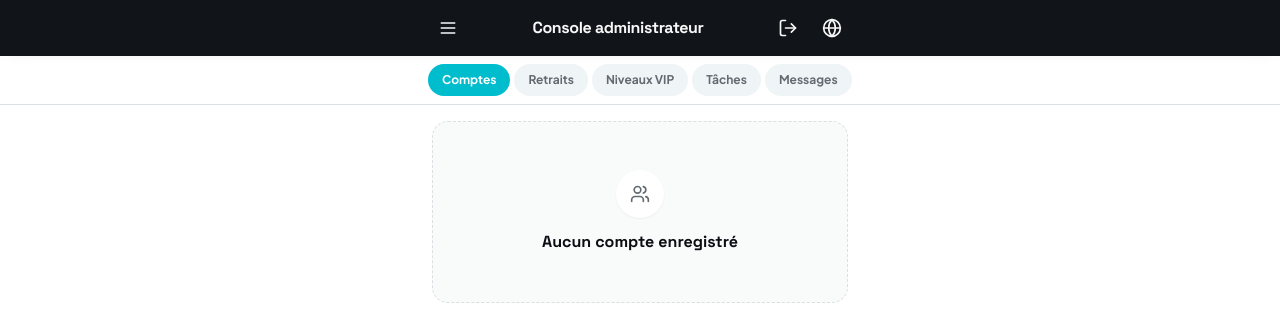
Test case: AdminPage service inbox › shows an empty state when there are no conversations
The image size is (1280, 320).
Click the button with test id "admin.tab.inbox".
click(808, 80)  # box [765,64,852,96]
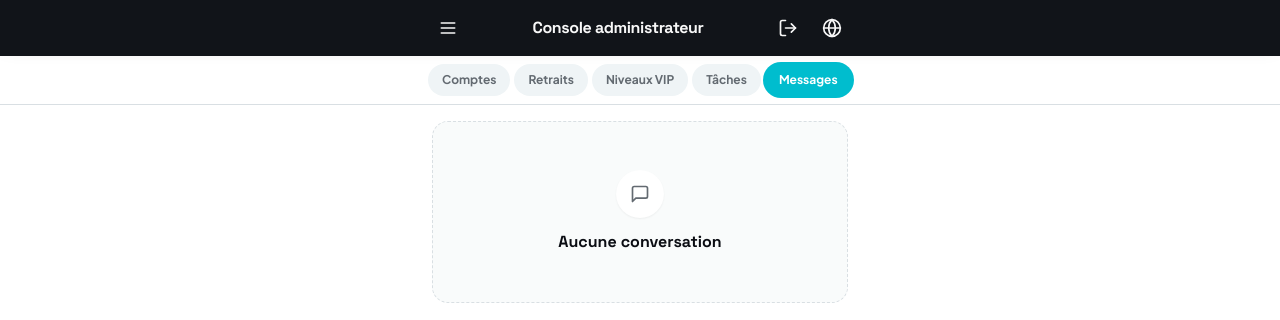
Expected: the text "Aucune conversation" is shown, [558,230,722,254]
